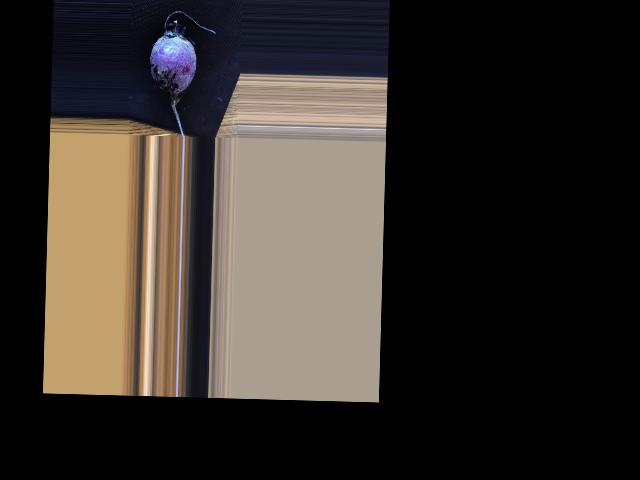beet: (147, 10, 216, 138)
